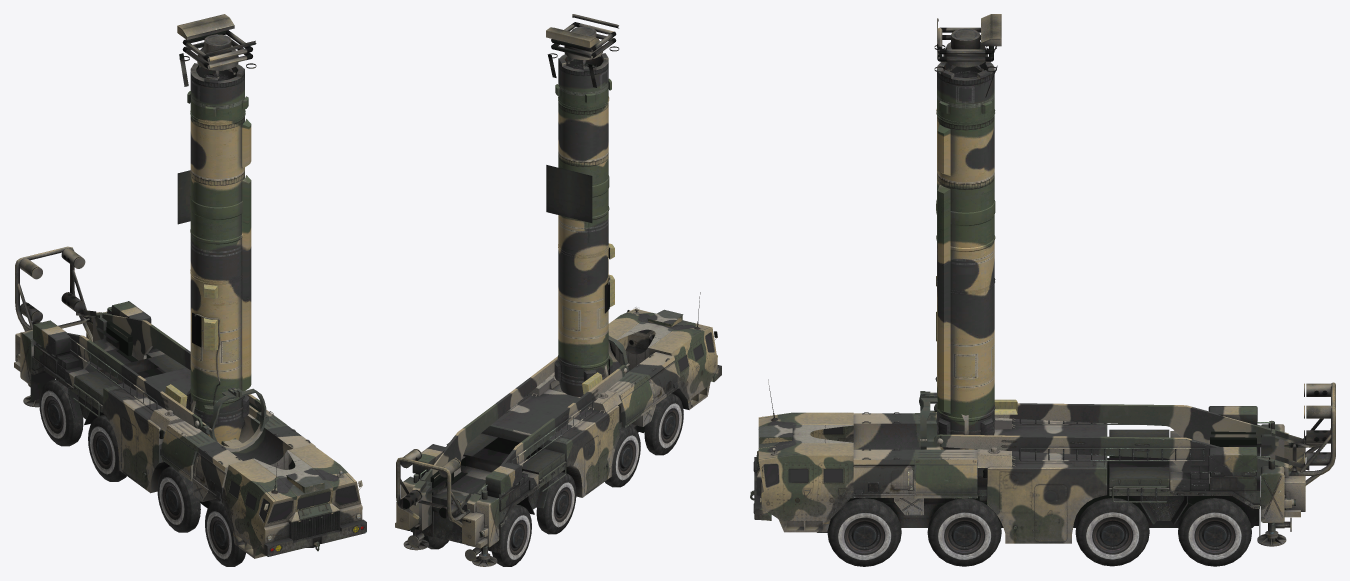
File: launcher.glb
The picture shows the model from 3 angles, left to right: view 1: azimuth 30°, elevation 25°; view 2: azimuth 150°, elevation 25°; view 3: azimuth 270°, elevation 25°; orthographic projection. The views are drawn at different scales.
Parts seen in each view (by area): view 1: launcher_truck, launcher_missile; view 2: launcher_truck, launcher_missile; view 3: launcher_truck, launcher_missile.
Part boxes in pixels (<box>): launcher_truck: <box>14,246,366,566</box>; launcher_missile: <box>177,14,256,444</box>; launcher_truck: <box>395,292,721,566</box>; launcher_missile: <box>546,14,619,396</box>; launcher_truck: <box>750,379,1335,566</box>; launcher_missile: <box>934,14,1001,449</box>.
Bounding box in the file's own units: 3.12 × 14.23 × 14.55.
Materials: 4 (4 with a texture image).
